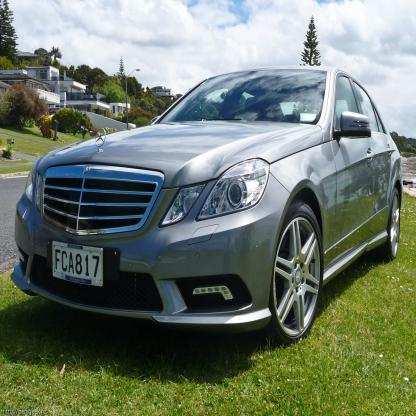Vehicle: (11, 66, 402, 345)
